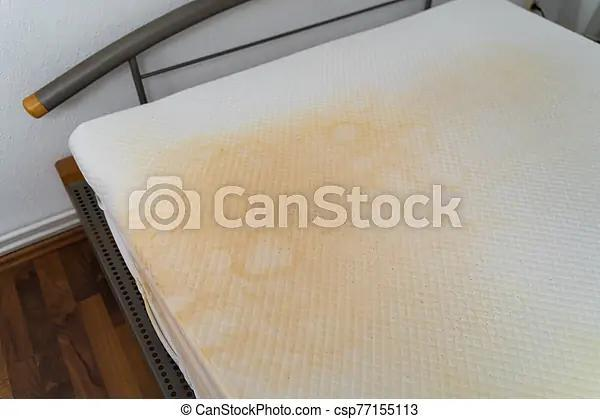Bed-Mattress: (71, 1, 600, 399)
